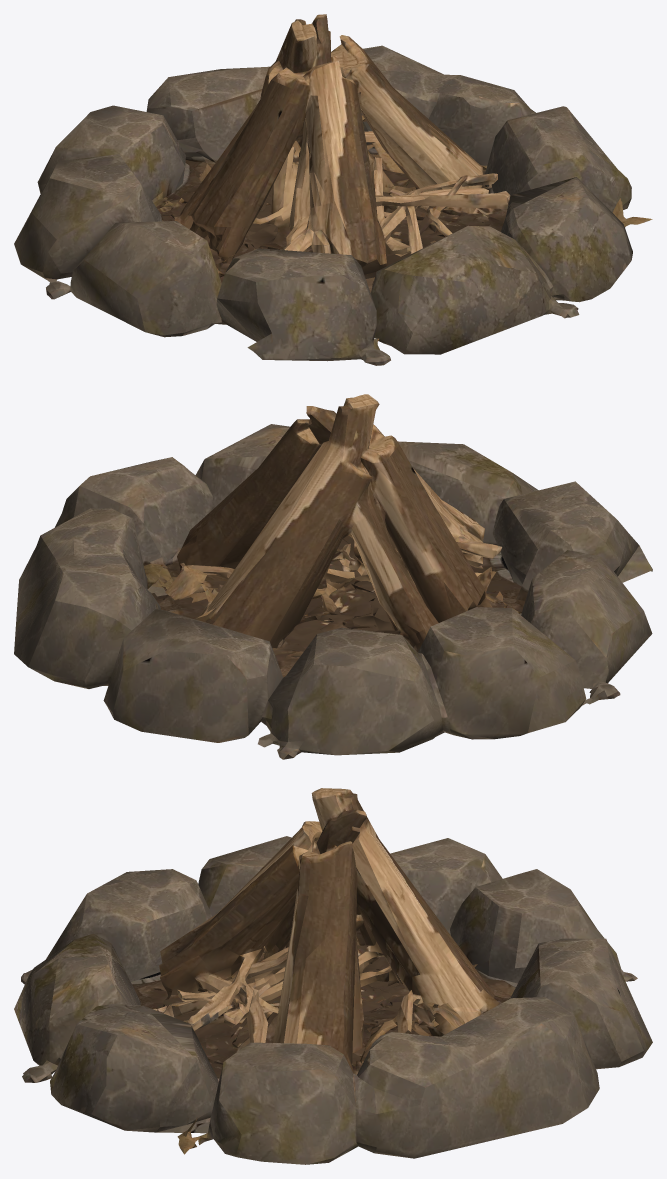
The model's file is fire-wood.glb.
3 renders of one model, top to bottom at view 1: azimuth 30°, elevation 25°; view 2: azimuth 150°, elevation 25°; view 3: azimuth 270°, elevation 25°, orthographic. The views are drawn at different scales.
Parts seen in each view (by area): view 1: Mesh0; view 2: Mesh0; view 3: Mesh0.
Boxes of the visible parts, bbox=[...] form: Mesh0: bbox=[14, 14, 652, 365]; Mesh0: bbox=[14, 394, 652, 759]; Mesh0: bbox=[14, 788, 652, 1164].
Bounding box in the file's own units: 1 × 0.3799 × 0.9572.
1 material, 1 textured.
